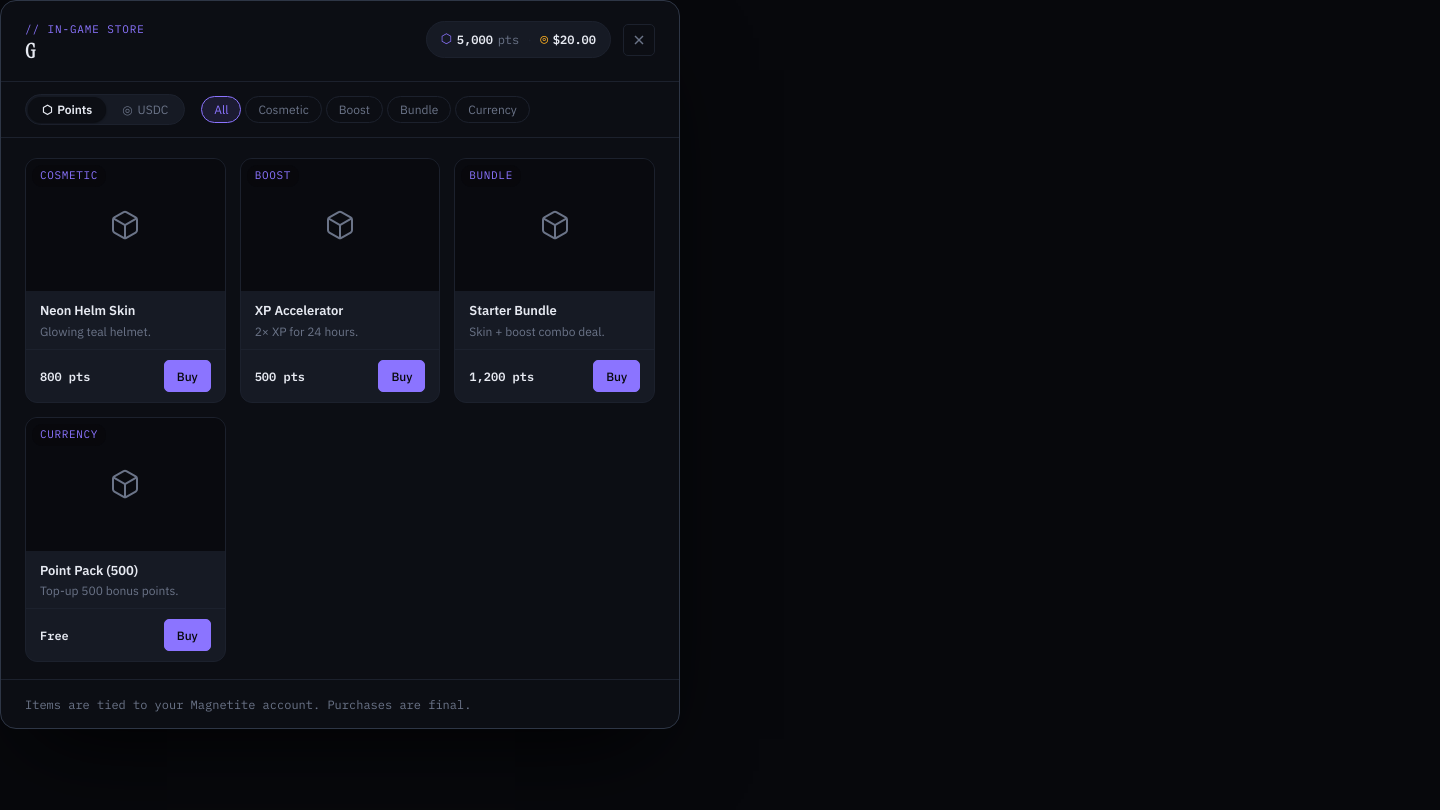
Test case: InGameStore › shows USDC prices after switching currency
The image size is (1440, 810).
What coordinates should you click on to do the following:
click the button "◎ USDC"
I would click on:
 (145, 110)
Its box is [108, 97, 182, 122].
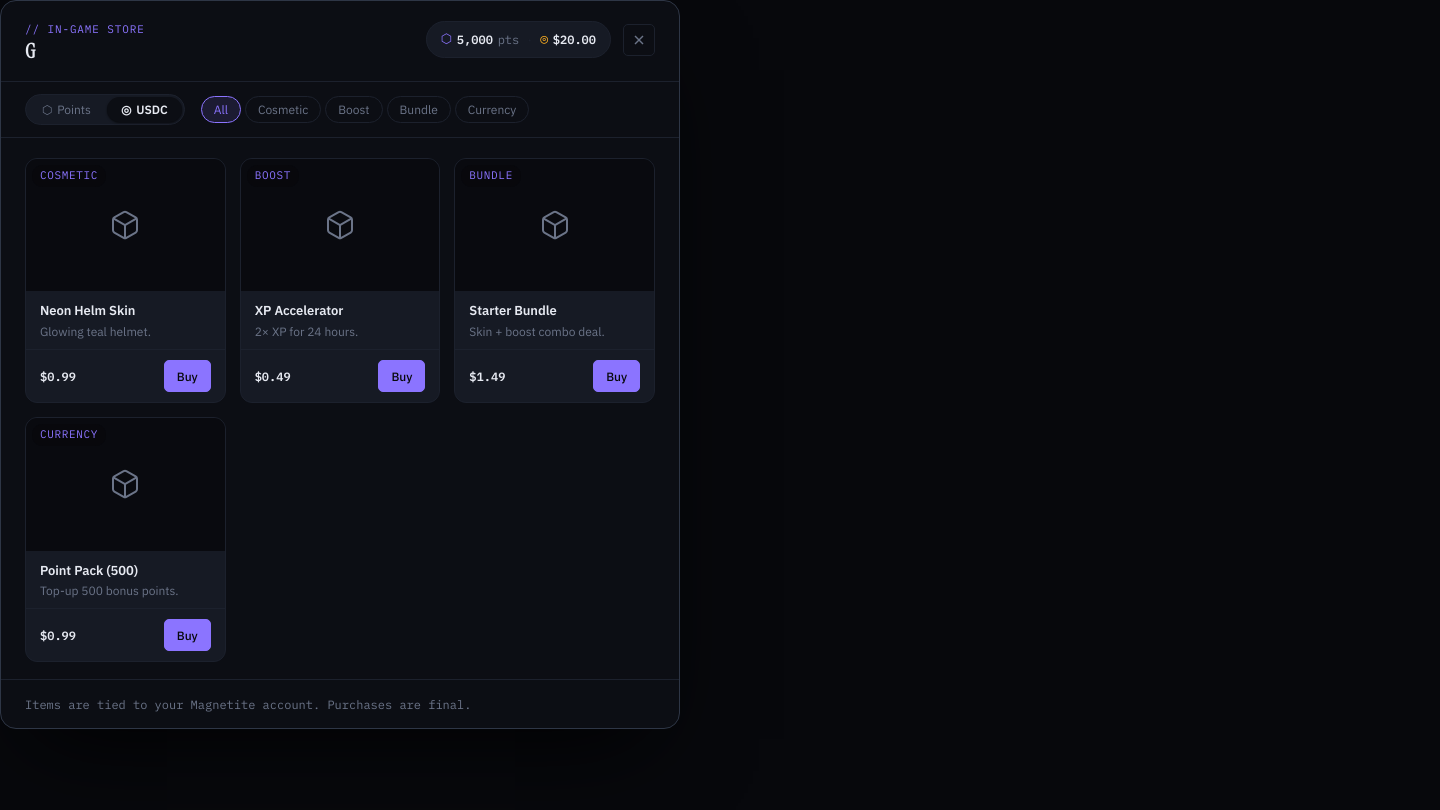
Expected: the text "$0.99" below "Neon Helm Skin" is shown, [40, 368, 76, 384]
